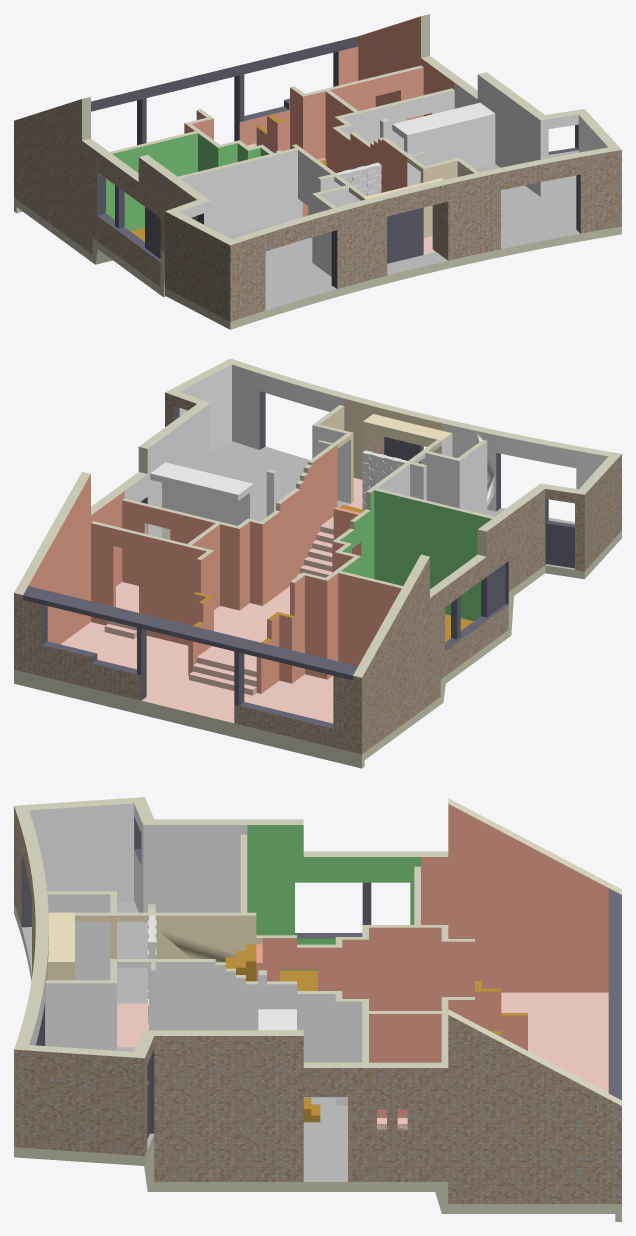
The model's file is 00_BG colors.fbx.
3 renders of one model, top to bottom at view 1: azimuth 30°, elevation 25°; view 2: azimuth 150°, elevation 25°; view 3: azimuth 270°, elevation 25°, orthographic. The views are drawn at different scales.
Visible parts, largest first — view 1: Model, Group3, Group7; view 2: Model, Group5, Group3, Group4, Group7, Group6; view 3: Model, Group1, Group3, Group4, Group2, Group7.
Boxes of the visible parts, x1,y1,x2,y2 form: Model: [14, 14, 621, 329]; Group3: [227, 164, 579, 310]; Group7: [336, 162, 381, 202]; Model: [14, 358, 621, 768]; Group5: [232, 364, 442, 479]; Group3: [210, 441, 574, 569]; Group4: [116, 582, 473, 667]; Group7: [362, 450, 407, 509]; Group6: [374, 567, 508, 620]; Model: [14, 797, 621, 1221]; Group1: [247, 873, 608, 992]; Group3: [21, 901, 153, 1149]; Group4: [280, 970, 407, 1181]; Group2: [247, 915, 296, 947]; Group7: [148, 915, 156, 1030].
Bounding box in the file's own units: 14 × 5.17 × 13.77.
